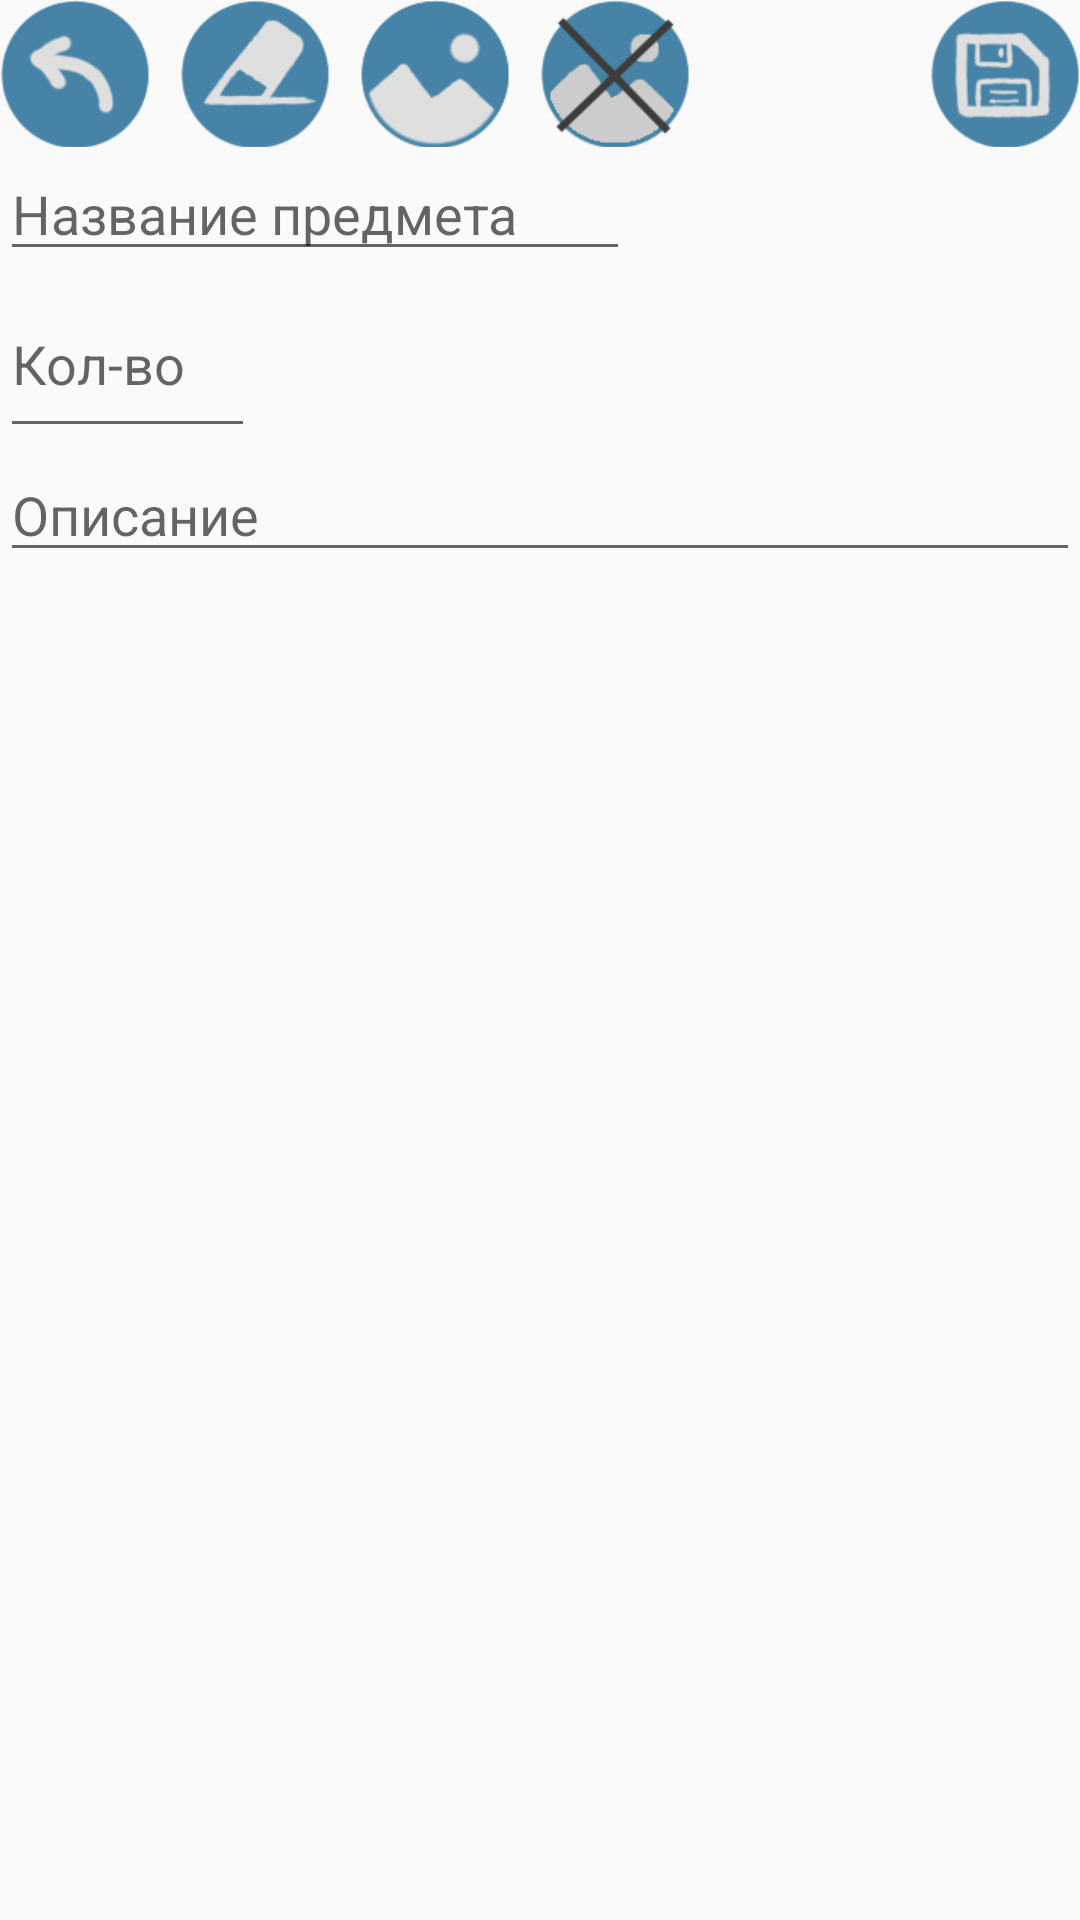

Screen size 1080 x 1920. Icon name, then its center in pixels as (x,y):
kartinka: (435,73)
kartinka udalenie: (615,74)
lastik: (255,74)
nazad: (75,74)
skhranit: (1005,74)
